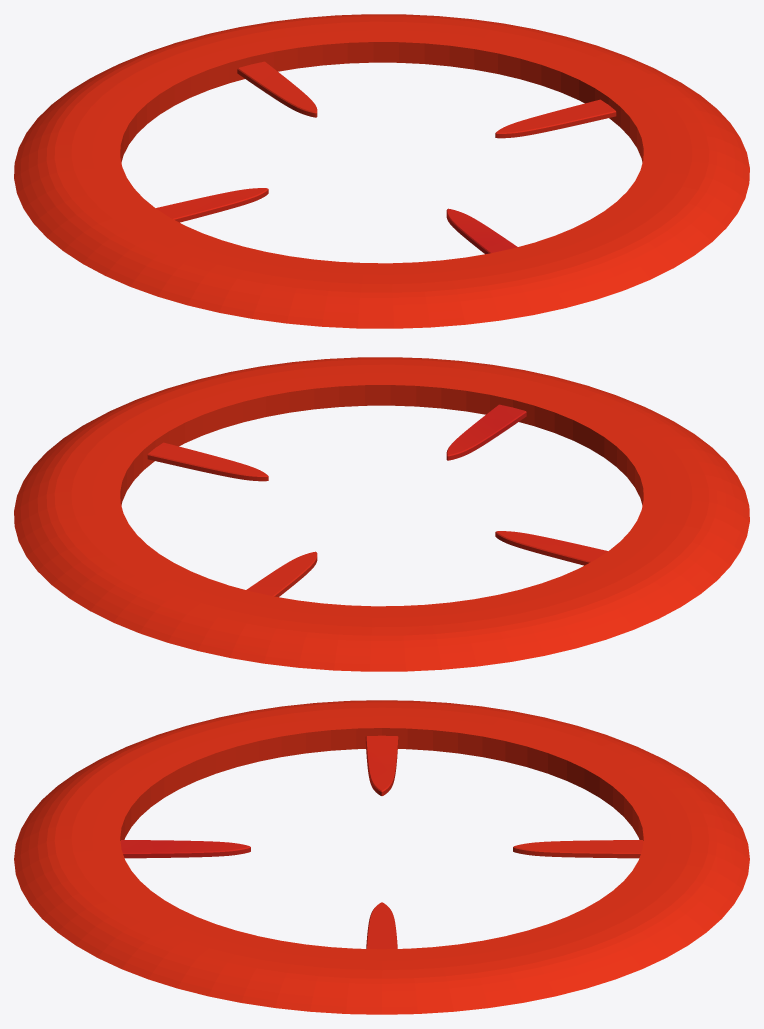
The model's file is Crosshair.glb.
The picture shows the model from 3 angles, top to bottom: view 1: azimuth 30°, elevation 25°; view 2: azimuth 150°, elevation 25°; view 3: azimuth 270°, elevation 25°; orthographic projection.
Parts seen in each view (by area): view 1: Cylinder; view 2: Cylinder; view 3: Cylinder.
Part boxes in pixels (x1,y1,x2,y2): Cylinder: (14, 14, 749, 328); Cylinder: (14, 357, 749, 671); Cylinder: (14, 700, 749, 1014).
Size of the model in its own units: 2.58 by 0.08 by 2.58.
1 material, 1 textured.
